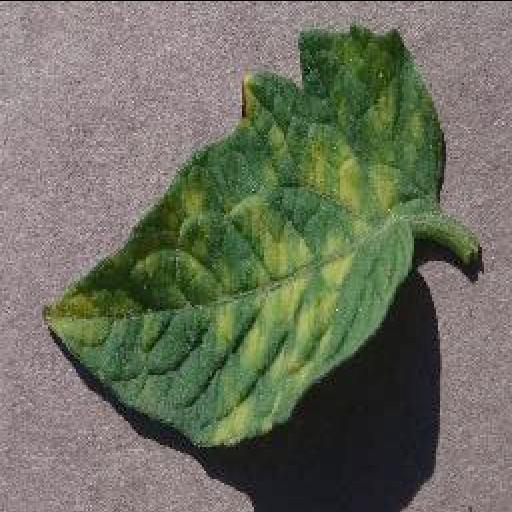disease_tomato: (40, 24, 450, 446)
